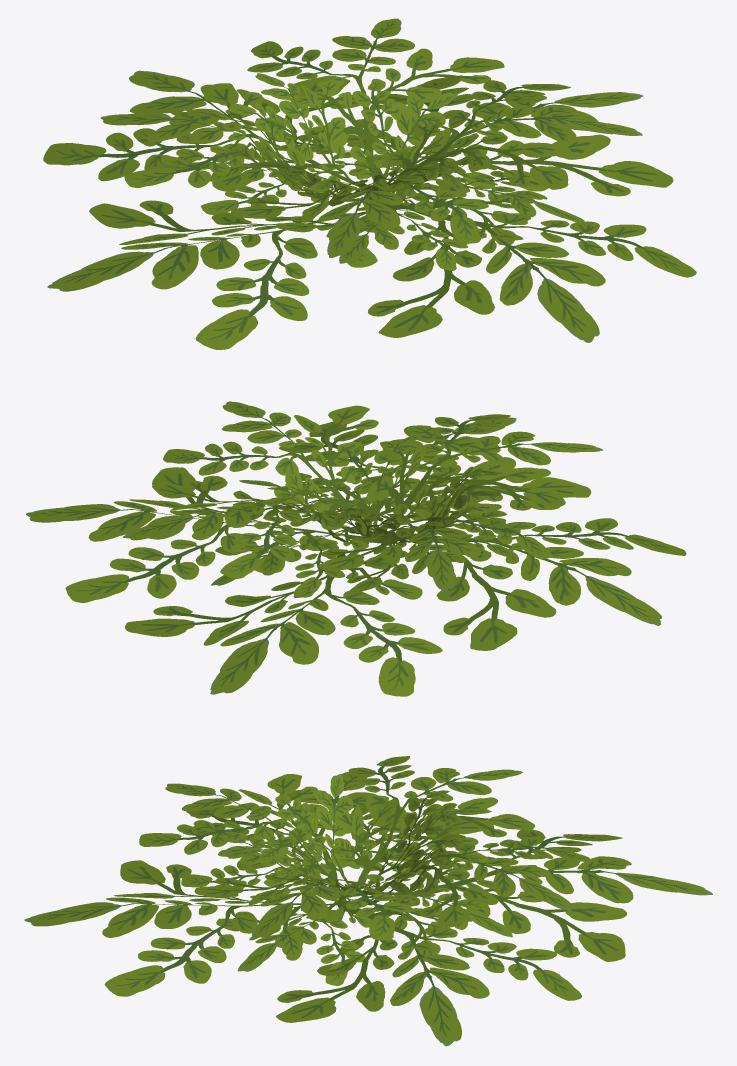
File: Leaf_Bush.fbx
The picture shows the model from 3 angles, top to bottom: view 1: azimuth 30°, elevation 25°; view 2: azimuth 150°, elevation 25°; view 3: azimuth 270°, elevation 25°; orthographic projection. The views are drawn at different scales.
Visible parts, largest first — view 1: Leaf_Bush; view 2: Leaf_Bush; view 3: Leaf_Bush.
Part boxes in pixels (x1=…): Leaf_Bush: x1=43, y1=18, x2=696, y2=350; Leaf_Bush: x1=26, y1=401, x2=686, y2=696; Leaf_Bush: x1=24, y1=756, x2=712, y2=1046.
Bounding box in the file's own units: 3.66 × 0.663 × 3.86.
